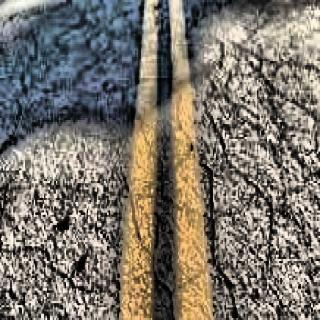alligator-crack: (176, 12, 318, 310), (2, 3, 174, 155), (4, 173, 172, 317)
